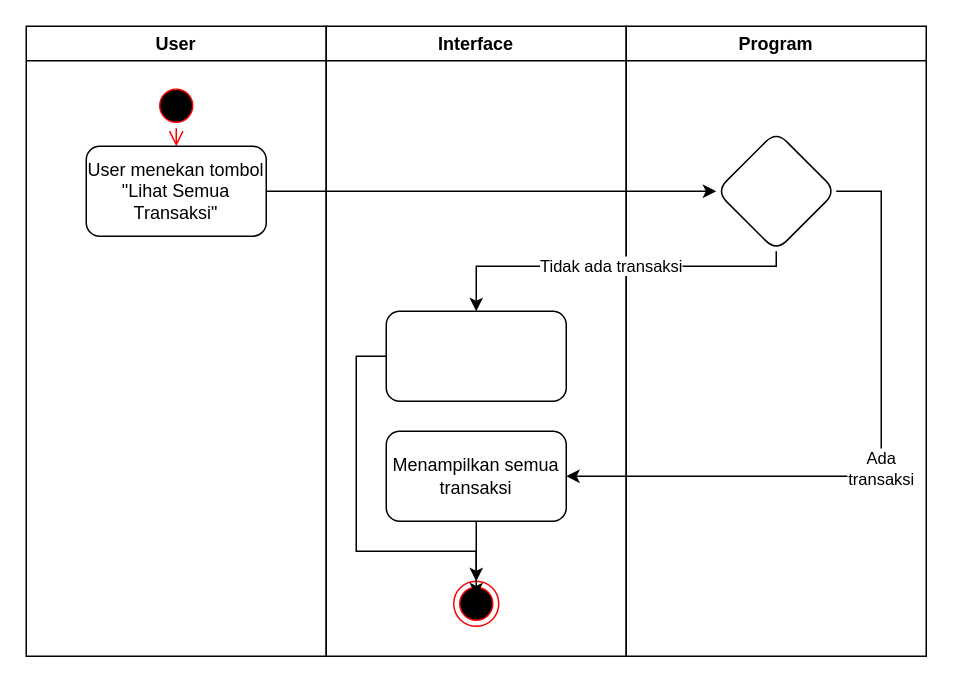
Some shapes in this 953 by 683 pixel diagram are drawn without their labels. Each missing label, with the centre of its shape:
Menampilkan "Belum ada transaksi": (x=475, y=355)
Validasi transaksi: (x=775, y=190)
